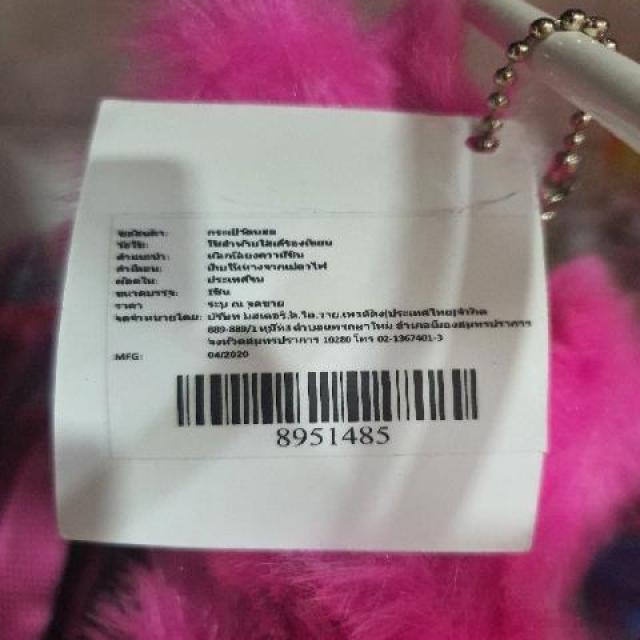Barcode: (162, 362, 498, 447)
